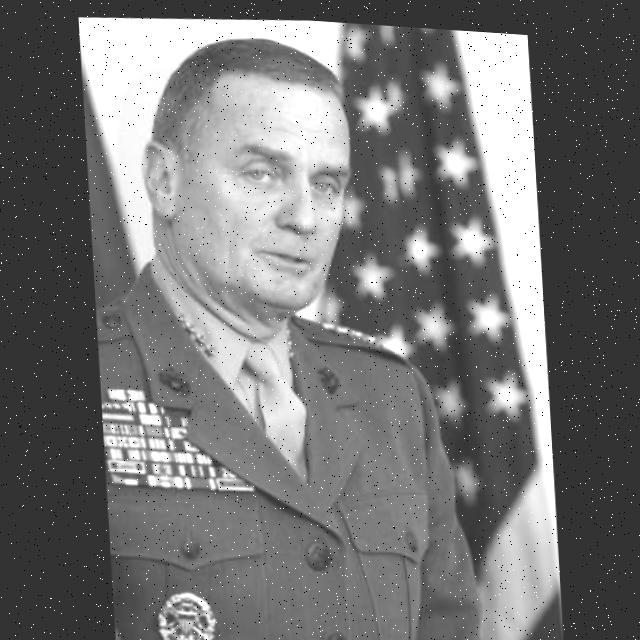face: (152, 62, 370, 321)
